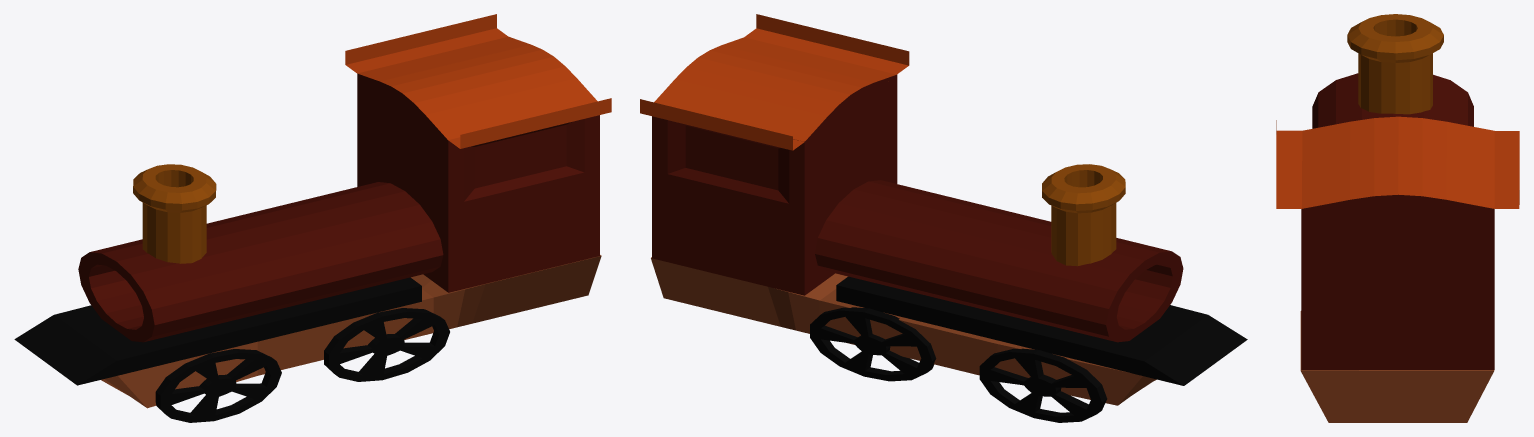
File: ThomasTrain.fbx
3 views of the same model, side by side, from view 1: azimuth 30°, elevation 25°; view 2: azimuth 150°, elevation 25°; view 3: azimuth 270°, elevation 25° (orthographic). The views are drawn at different scales.
Visible parts, largest first — view 1: Upper Body, Compartment, Roof, Mid Body, Lower Body, Steam Blower, Circle.002, Circle.004; view 2: Upper Body, Compartment, Roof, Mid Body, Lower Body, Steam Blower, Circle.001, Circle.003; view 3: Compartment, Roof, Lower Body, Steam Blower, Upper Body.
Part boxes in pixels (x1,y1,x2,y2): Upper Body: (78,182,443,342); Compartment: (357,73,599,292); Roof: (345,14,611,148); Mid Body: (14,277,421,385); Lower Body: (101,255,601,408); Steam Blower: (133,164,216,263); Circle.002: (155,349,281,422); Circle.004: (324,308,449,381); Upper Body: (815,180,1183,342); Compartment: (652,74,897,295); Roof: (640,14,909,150); Mid Body: (836,276,1247,385); Lower Body: (651,257,1156,405); Steam Blower: (1042,164,1125,266); Circle.001: (979,348,1107,422); Circle.003: (810,307,936,381); Compartment: (1301,194,1494,369); Roof: (1276,116,1519,208); Lower Body: (1300,311,1494,422); Steam Blower: (1347,14,1443,114); Upper Body: (1312,73,1473,128).
Size of the model in its own units: 1806 by 813 by 703.
